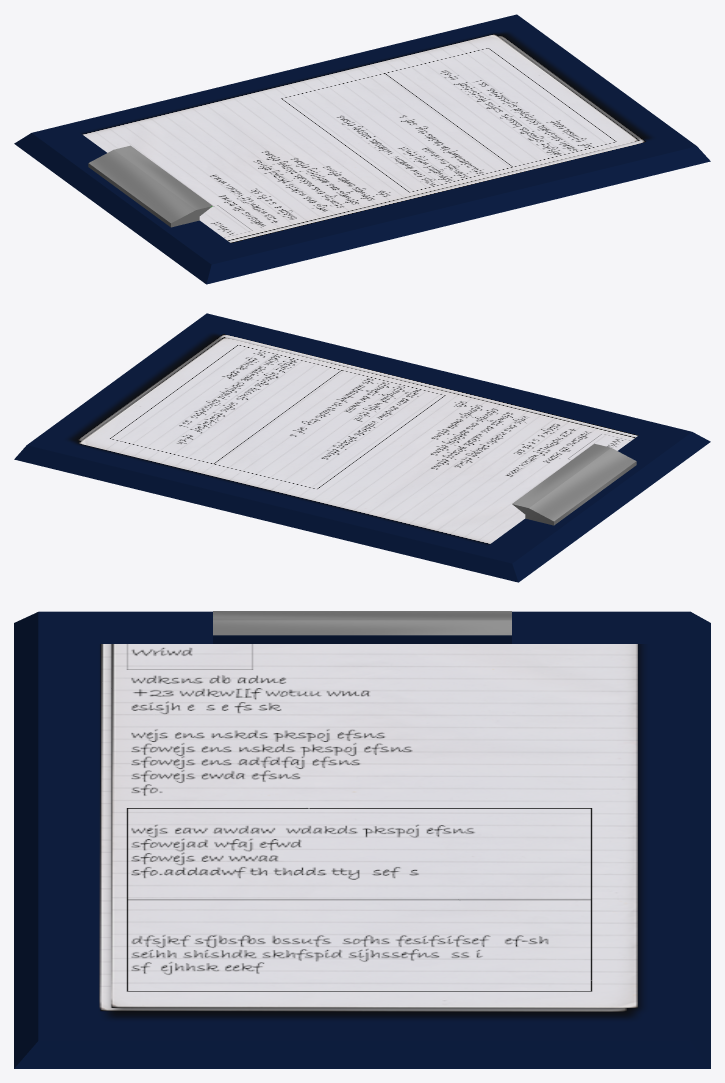
File: clipBoard.FBX
3 views of the same model, one above another, from view 1: azimuth 30°, elevation 25°; view 2: azimuth 150°, elevation 25°; view 3: azimuth 270°, elevation 25° (orthographic). The views are drawn at different scales.
Visible parts, largest first — view 1: Box005; view 2: Box005; view 3: Box005.
Part boxes in pixels (x1,y1,x2,y2): Box005: [14, 14, 710, 284]; Box005: [14, 313, 710, 582]; Box005: [14, 611, 710, 1068].
Bounding box in the file's own units: 0.3218 × 0.0142 × 0.2126.
